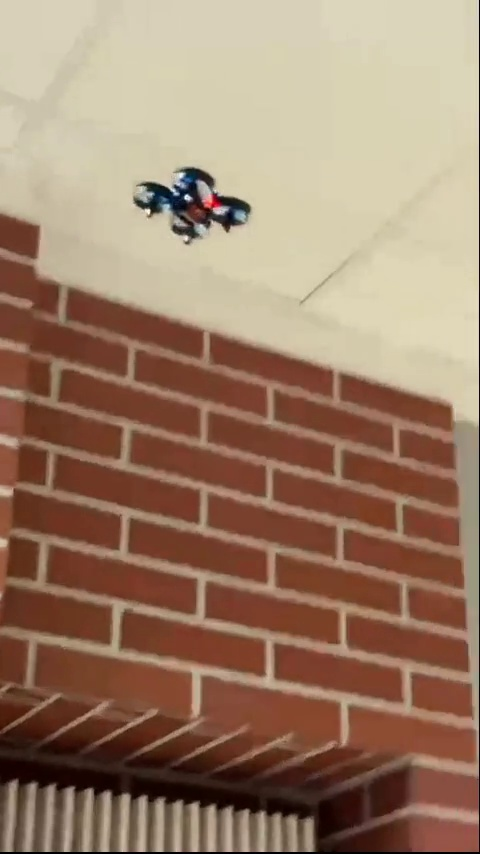drone: (134, 165, 253, 255)
